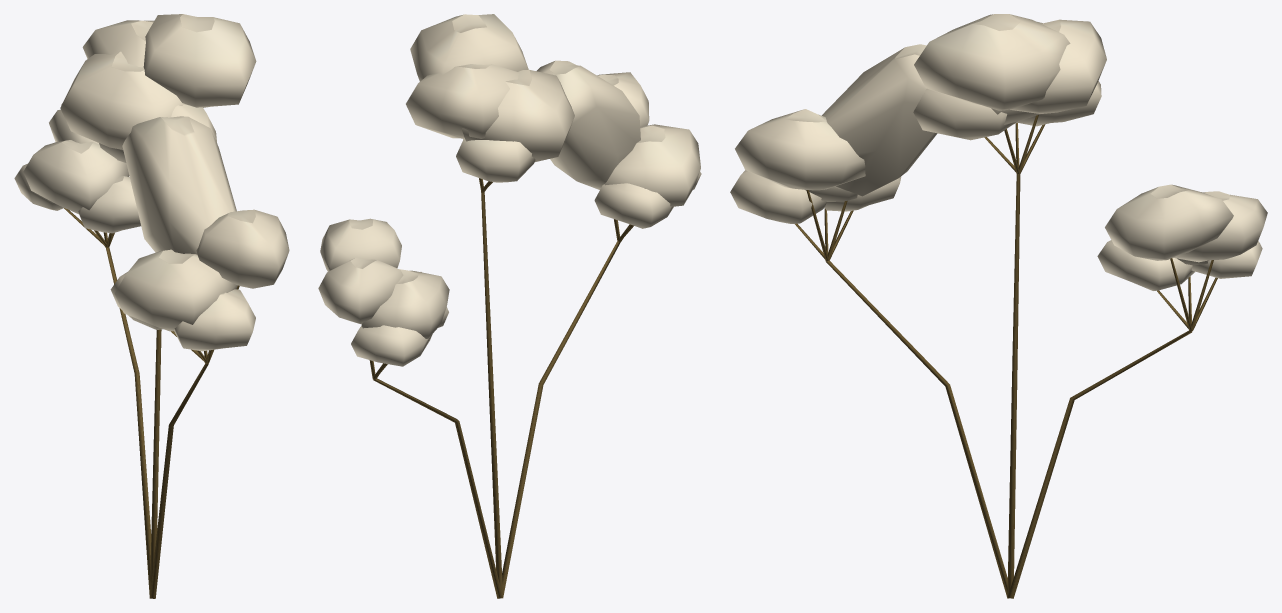
Rendered from quality-flower-spray-v11.glb.
3 views of the same model, side by side, from view 1: azimuth 30°, elevation 25°; view 2: azimuth 150°, elevation 25°; view 3: azimuth 270°, elevation 25° (orthographic). The views are drawn at different scales.
Visible parts, largest first — view 1: quality-flower-spray-v11; view 2: quality-flower-spray-v11; view 3: quality-flower-spray-v11.
Boxes of the visible parts, x1=… form: quality-flower-spray-v11: x1=14, y1=14, x2=289, y2=598; quality-flower-spray-v11: x1=318, y1=14, x2=701, y2=598; quality-flower-spray-v11: x1=730, y1=14, x2=1267, y2=598.
Size of the model in its own units: 0.2298 by 0.5647 by 0.4603.
2 materials, 2 textured.
